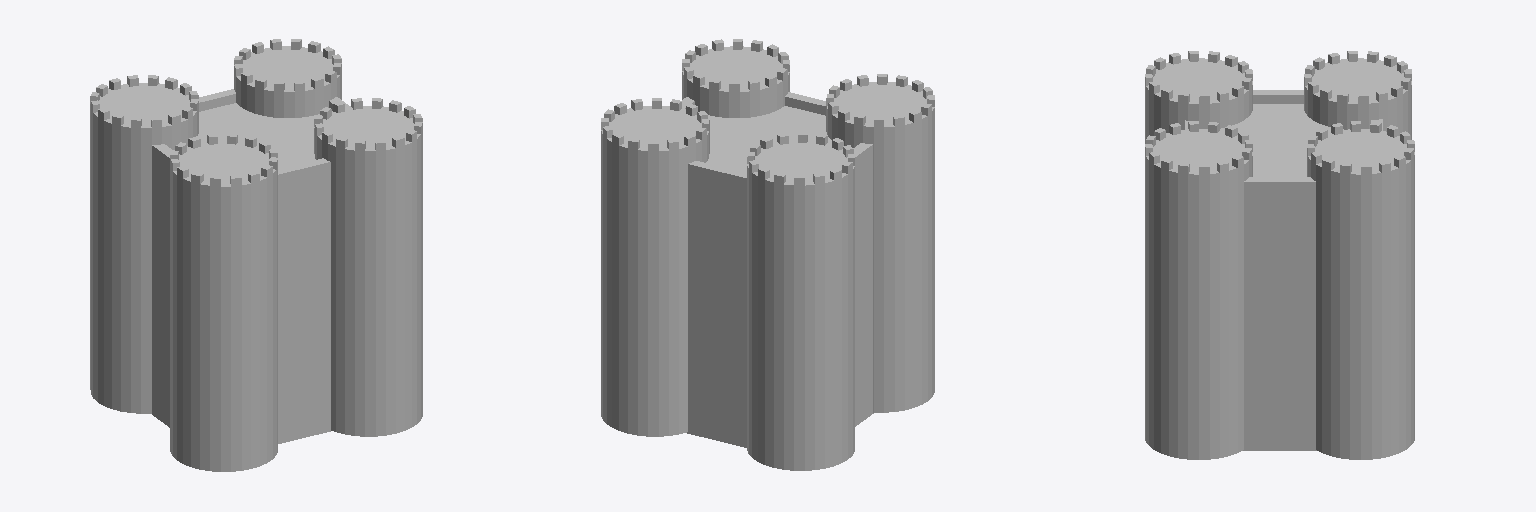
File: kastely3.obj
3 renders of one model, left to right at view 1: azimuth 30°, elevation 25°; view 2: azimuth 150°, elevation 25°; view 3: azimuth 270°, elevation 25°, orthographic.
Parts seen in each view (by area): view 1: Cube; view 2: Cube; view 3: Cube.
Part boxes in pixels (x1,y1,x2,y2): Cube: (90, 39, 422, 471); Cube: (601, 39, 934, 470); Cube: (1145, 51, 1414, 459).
Size of the model in its own units: 5.07 by 5.97 by 4.98.